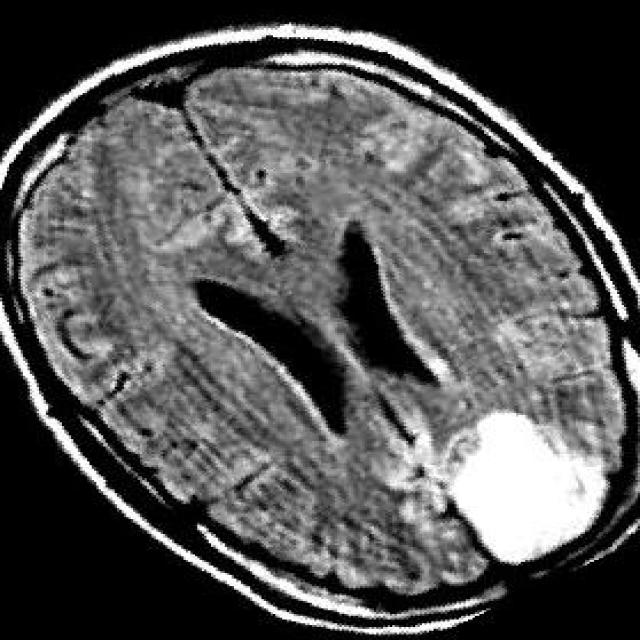Tumor-Cell: (436, 408, 596, 545)
